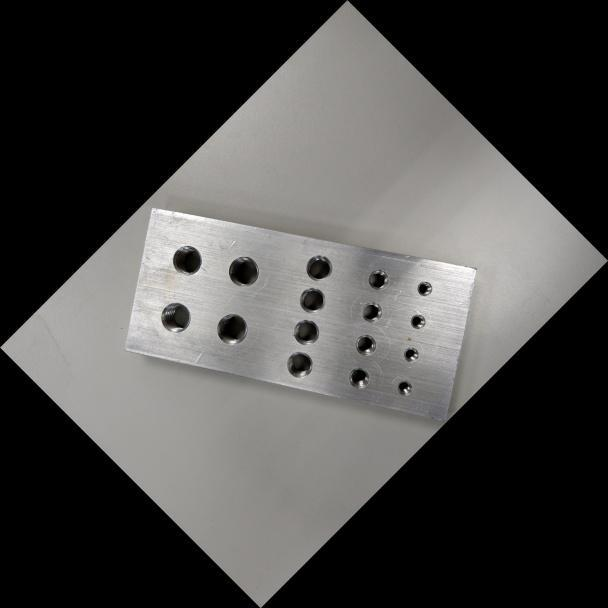hole: (208, 305, 255, 352), (220, 248, 266, 294), (153, 295, 197, 340), (165, 238, 209, 282), (299, 248, 338, 287), (280, 345, 318, 383), (287, 313, 325, 351), (293, 281, 331, 319), (343, 361, 374, 393), (349, 329, 381, 360), (356, 296, 387, 327), (363, 264, 394, 295), (399, 342, 422, 366), (413, 277, 436, 300), (393, 376, 415, 399), (406, 310, 429, 332)
